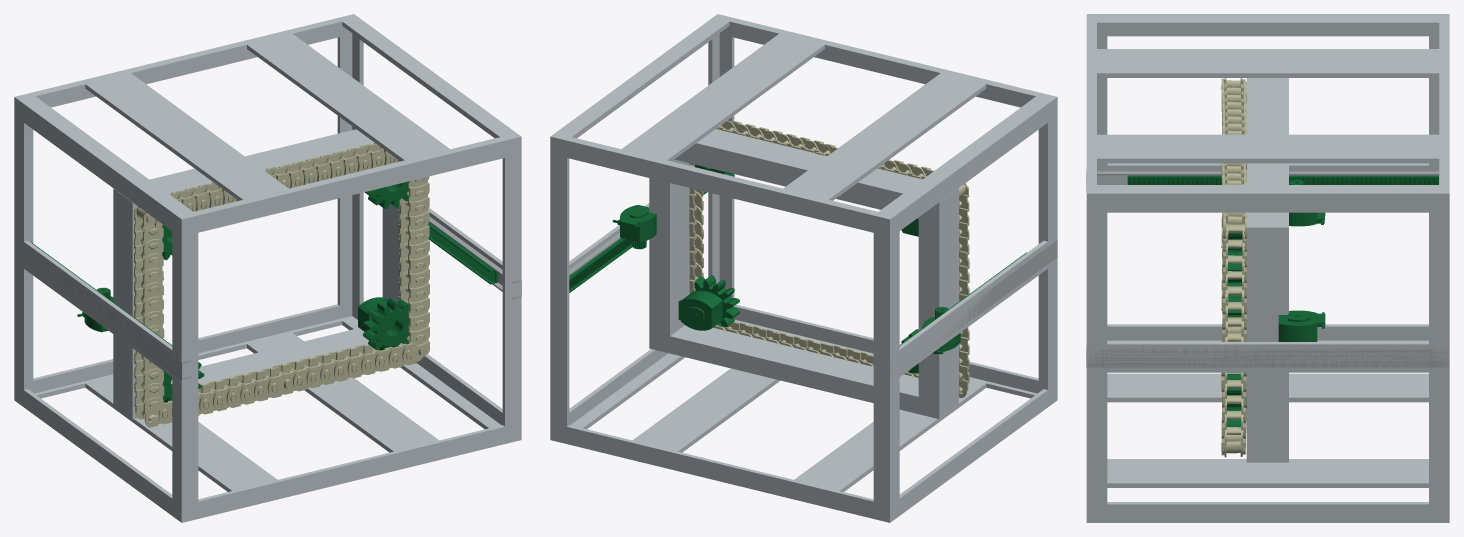
File: tinker.obj
3 views of the same model, side by side, from view 1: azimuth 30°, elevation 25°; view 2: azimuth 150°, elevation 25°; view 3: azimuth 270°, elevation 25° (orthographic). The views are drawn at different scales.
Visible parts, largest first — view 1: obj_8, obj_12, obj_13, obj_14, obj_11, obj_9, obj_3, obj_10, obj_2; view 2: obj_8, obj_11, obj_10, obj_12, obj_13, obj_9, obj_4, obj_14, obj_7, obj_3; view 3: obj_8, obj_9, obj_14, obj_10, obj_11, obj_7, obj_12, obj_6, obj_3.
Part boxes in pixels (<box>): obj_8: <box>14,14,521,522</box>; obj_12: <box>135,336,424,427</box>; obj_13: <box>134,206,164,421</box>; obj_14: <box>398,176,429,358</box>; obj_11: <box>136,142,399,226</box>; obj_9: <box>428,217,521,299</box>; obj_3: <box>362,298,409,350</box>; obj_10: <box>24,242,190,379</box>; obj_2: <box>364,181,408,209</box>; obj_8: <box>550,14,1057,522</box>; obj_11: <box>716,120,966,198</box>; obj_10: <box>891,240,1057,378</box>; obj_12: <box>713,321,967,397</box>; obj_13: <box>959,184,969,395</box>; obj_9: <box>569,191,706,292</box>; obj_4: <box>678,290,722,330</box>; obj_14: <box>689,163,703,293</box>; obj_7: <box>612,205,656,242</box>; obj_3: <box>694,275,739,327</box>; obj_8: <box>1086,14,1449,522</box>; obj_9: <box>1086,344,1449,367</box>; obj_14: <box>1221,223,1246,454</box>; obj_10: <box>1086,169,1439,192</box>; obj_11: <box>1221,78,1247,238</box>; obj_7: <box>1278,310,1325,341</box>; obj_12: <box>1221,326,1246,457</box>; obj_6: <box>1289,212,1325,226</box>; obj_3: <box>1226,374,1241,427</box>.
Size of the model in its own units: 82 by 70 by 70.07.
